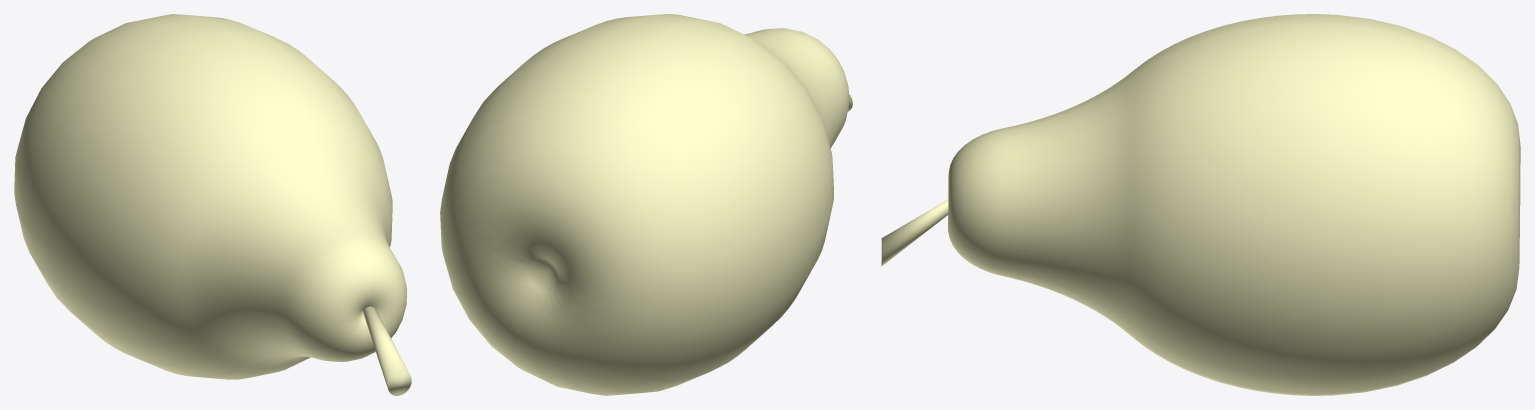
File: pear1_3.dae
3 views of the same model, side by side, from view 1: azimuth 30°, elevation 25°; view 2: azimuth 150°, elevation 25°; view 3: azimuth 270°, elevation 25° (orthographic). The views are drawn at different scales.
Visible parts, largest first — view 1: pear1_019; view 2: pear1_019; view 3: pear1_019.
Part boxes in pixels (box(x1,y1,x2,y2)): pear1_019: box(14, 14, 411, 395); pear1_019: box(440, 14, 852, 395); pear1_019: box(881, 14, 1520, 395).
Bounding box in the file's own units: 0.045 × 0.0753 × 0.045.
